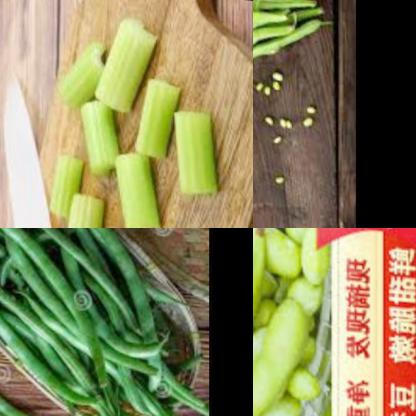beans: (0, 228, 210, 416), (253, 228, 314, 416), (0, 265, 61, 416), (253, 61, 282, 92), (259, 108, 293, 125), (269, 168, 290, 182), (265, 129, 287, 141), (296, 109, 312, 123), (301, 98, 313, 108)
celery: (94, 3, 166, 112), (131, 61, 183, 159), (112, 141, 165, 228), (173, 94, 217, 197), (50, 29, 106, 107), (78, 87, 122, 174), (48, 141, 86, 221), (60, 181, 107, 228)
